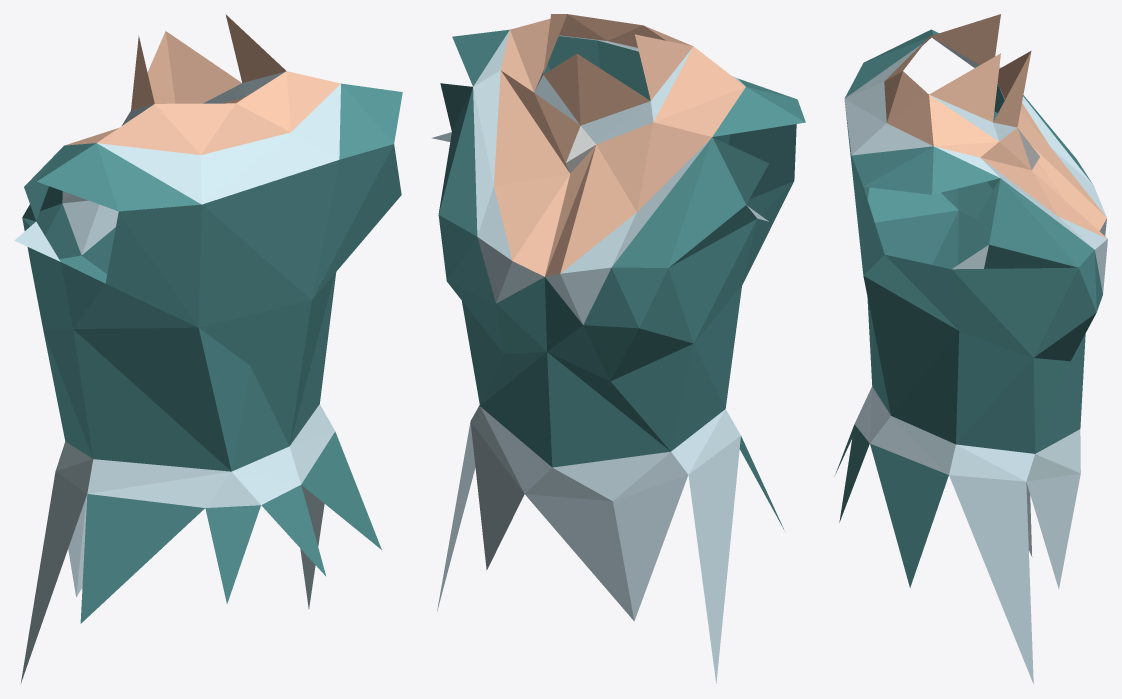
Rendered from Torso_Lo.obj.
3 views of the same model, side by side, from view 1: azimuth 30°, elevation 25°; view 2: azimuth 150°, elevation 25°; view 3: azimuth 270°, elevation 25° (orthographic). The views are drawn at different scales.
Bounding box in the file's own units: 0.4558 × 0.7576 × 0.3192.
Materials: 1 (1 with a texture image).
